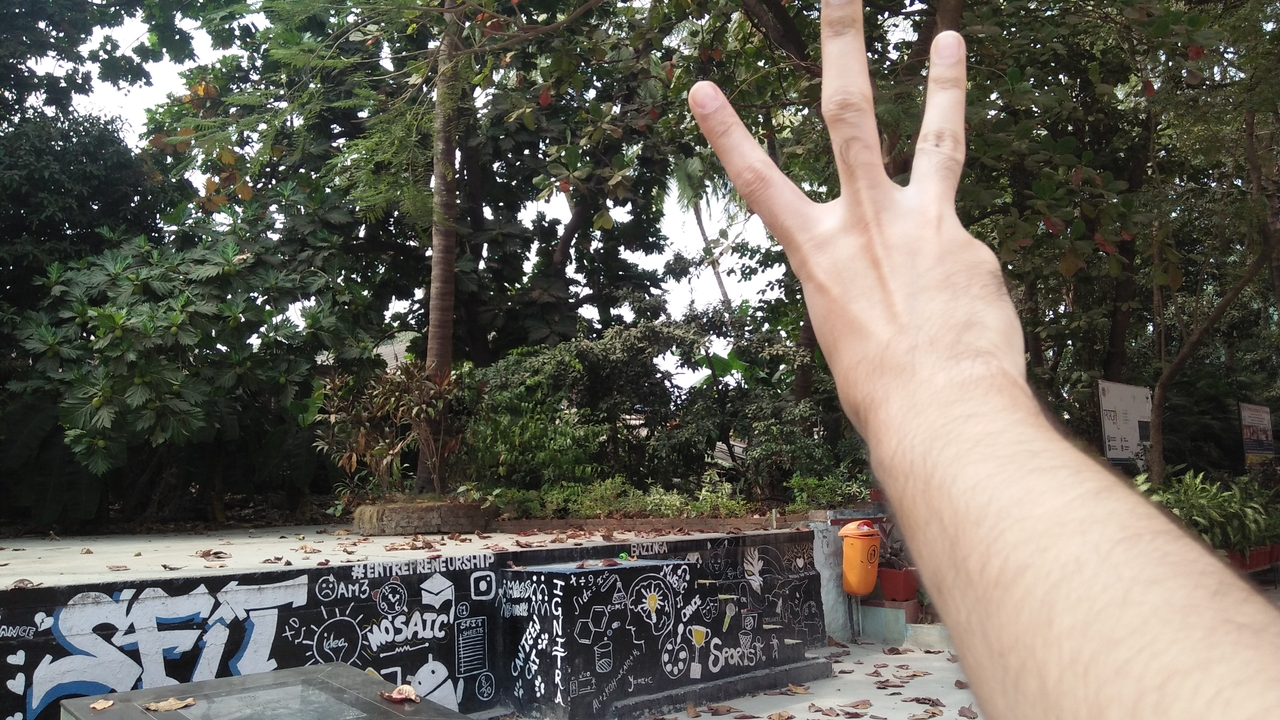fingertip: (688, 74, 736, 128), (936, 26, 972, 64), (823, 1, 867, 29)
